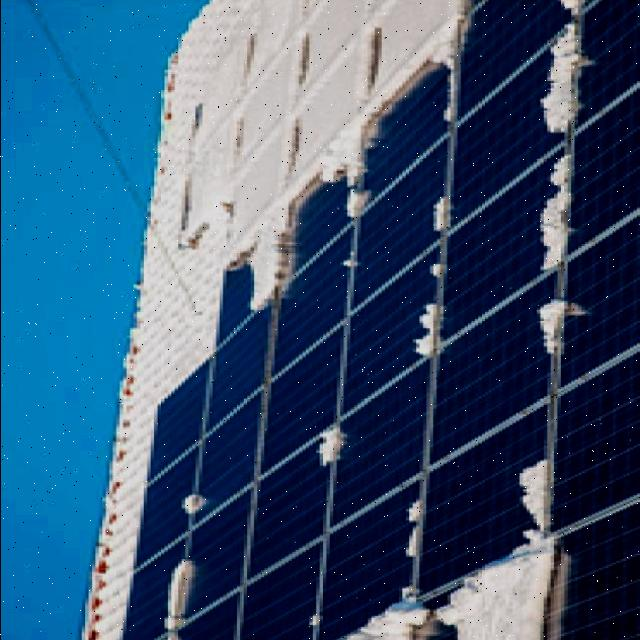Anomaly Solar Panel: (79, 0, 640, 640)
Snow: (214, 0, 476, 346), (433, 546, 555, 640), (333, 580, 442, 640), (534, 18, 582, 137), (533, 151, 572, 272), (510, 458, 553, 560), (160, 561, 191, 640), (534, 297, 565, 354), (411, 299, 438, 360), (316, 426, 341, 472), (422, 197, 450, 238), (403, 502, 417, 558), (555, 0, 581, 15), (181, 496, 195, 516)
